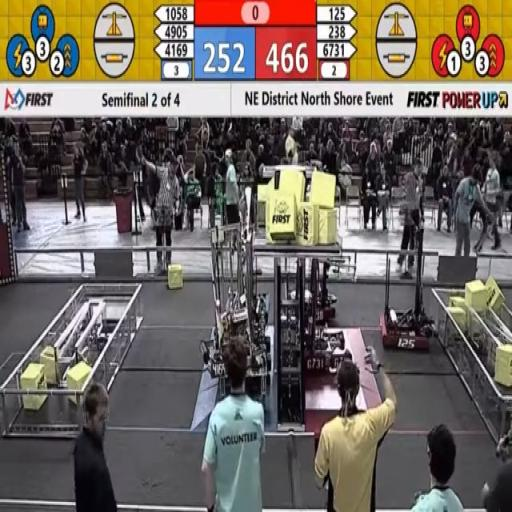robot: (198, 222, 272, 386), (381, 236, 439, 366), (298, 252, 356, 376), (224, 216, 272, 328), (295, 234, 345, 324)
